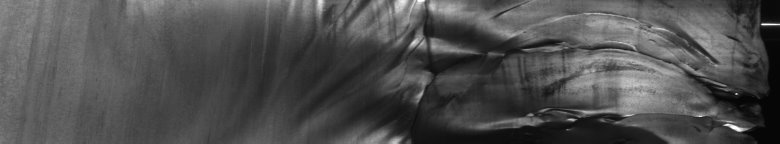ke: (317, 4, 636, 136)
